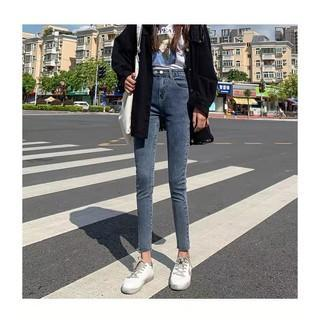pants: (125, 66, 204, 258)
